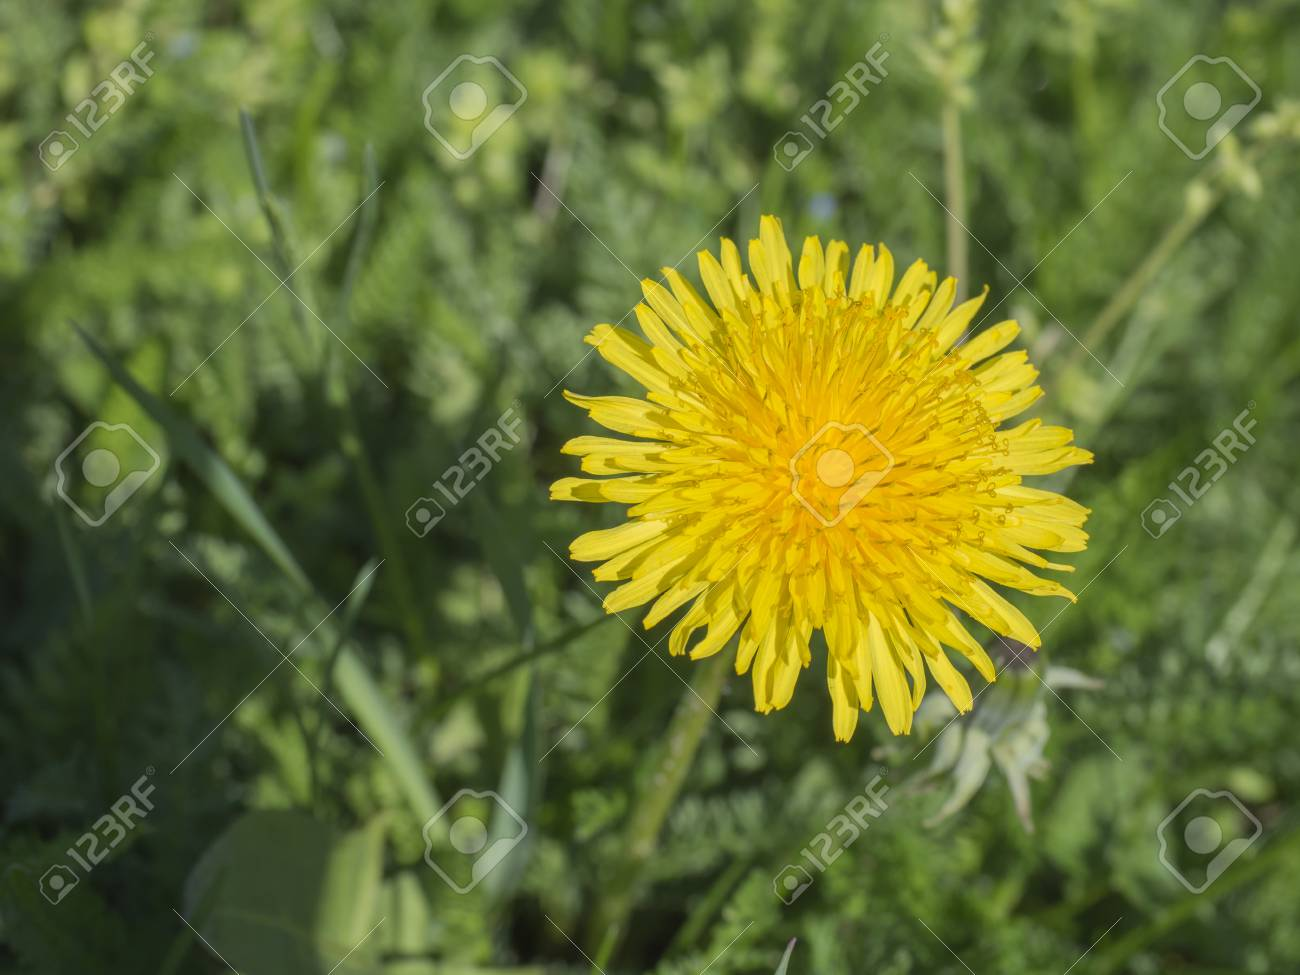dandelion: (582, 248, 1081, 709)
